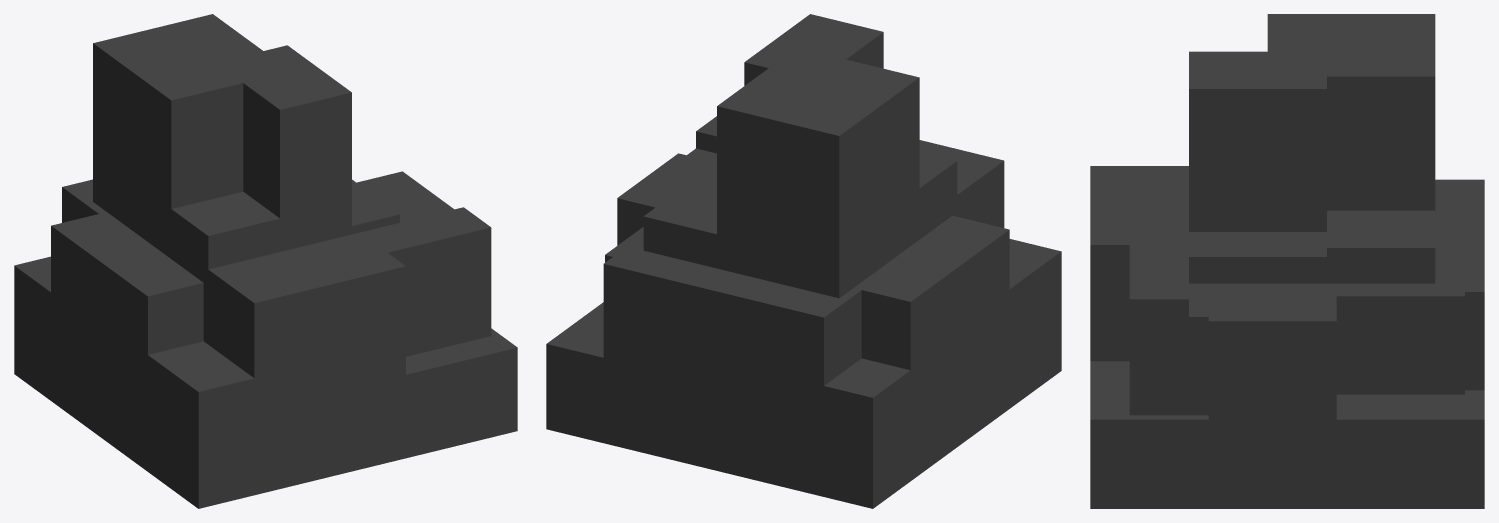
The model's file is rock.obj.
3 views of the same model, side by side, from view 1: azimuth 30°, elevation 25°; view 2: azimuth 150°, elevation 25°; view 3: azimuth 270°, elevation 25° (orthographic). The views are drawn at different scales.
Visible parts, largest first — view 1: rock; view 2: rock; view 3: rock.
Part boxes in pixels (bbox=[...]): rock: bbox=[14, 14, 517, 508]; rock: bbox=[546, 14, 1061, 508]; rock: bbox=[1090, 14, 1484, 508].
Bounding box in the file's own units: 40 × 40 × 40.
Materials: 1 (1 with a texture image).
